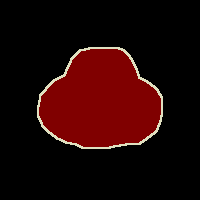hat: (38, 47, 162, 148)
